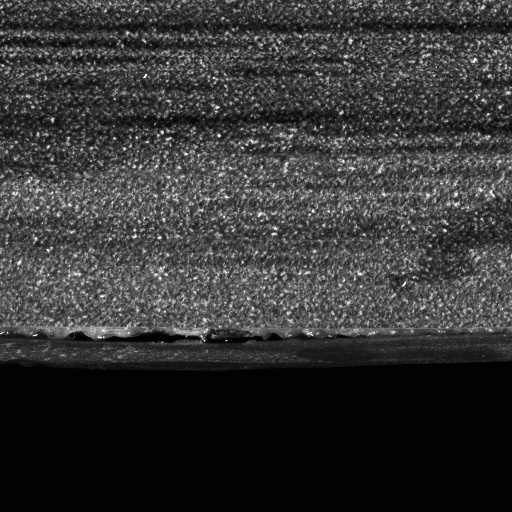kaijiao: (0, 321, 511, 374)
